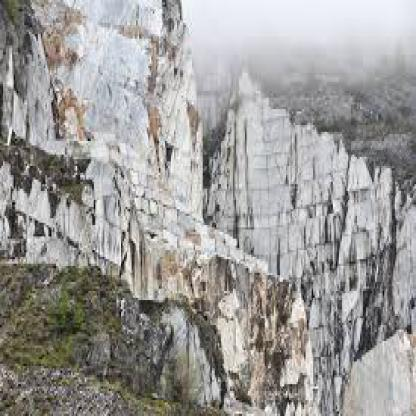Metamorphic_Quartize: (216, 68, 390, 291)
